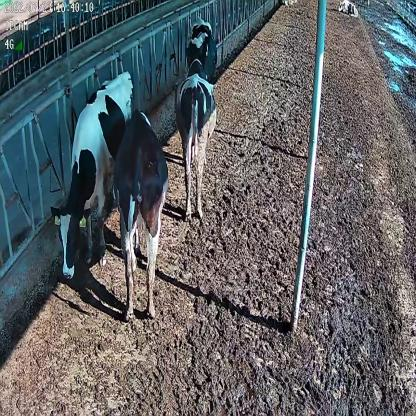cow: (50, 68, 133, 282), (115, 107, 170, 318), (177, 39, 217, 221), (338, 0, 359, 21)
